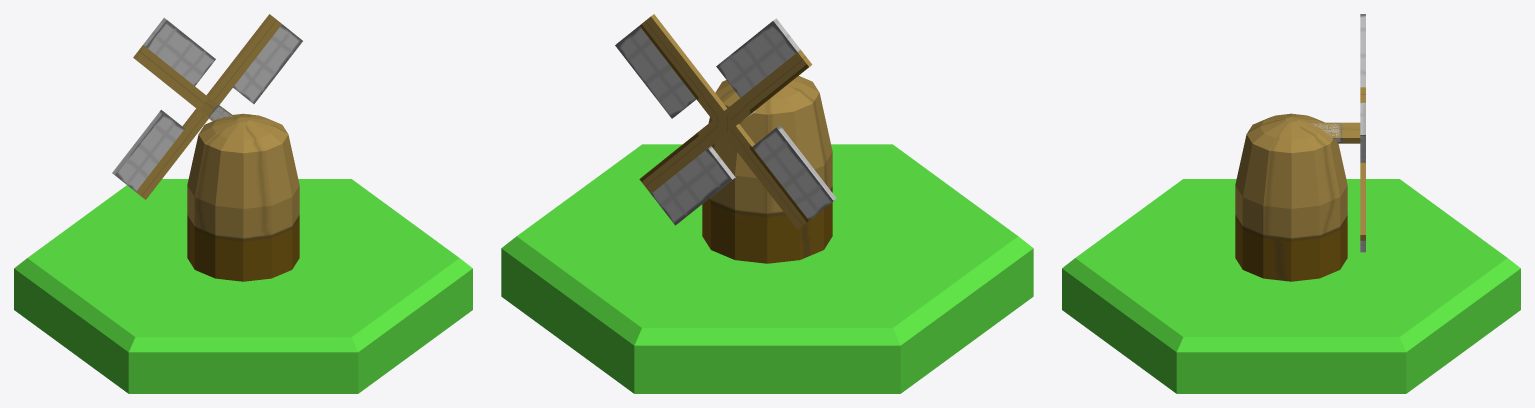
Rendered from tile_energy_windmill.fbx.
3 views of the same model, side by side, from view 1: azimuth 30°, elevation 25°; view 2: azimuth 150°, elevation 25°; view 3: azimuth 270°, elevation 25° (orthographic). The views are drawn at different scales.
Visible parts, largest first — view 1: Pad, Base, Rotor; view 2: Pad, Rotor, Base; view 3: Pad, Base, Rotor.
Part boxes in pixels (left/top/right/bottom): Pad: left=14, top=179, right=472, bottom=393; Base: left=187, top=113, right=299, bottom=281; Rotor: left=112, top=14, right=302, bottom=199; Pad: left=501, top=144, right=1033, bottom=393; Rotor: left=615, top=14, right=836, bottom=229; Base: left=702, top=76, right=832, bottom=263; Pad: left=1062, top=179, right=1520, bottom=393; Base: left=1235, top=113, right=1347, bottom=281; Rotor: left=1309, top=14, right=1365, bottom=252.
Bounding box in the file's own units: 346 × 265 × 400.
2 materials, 1 textured.
